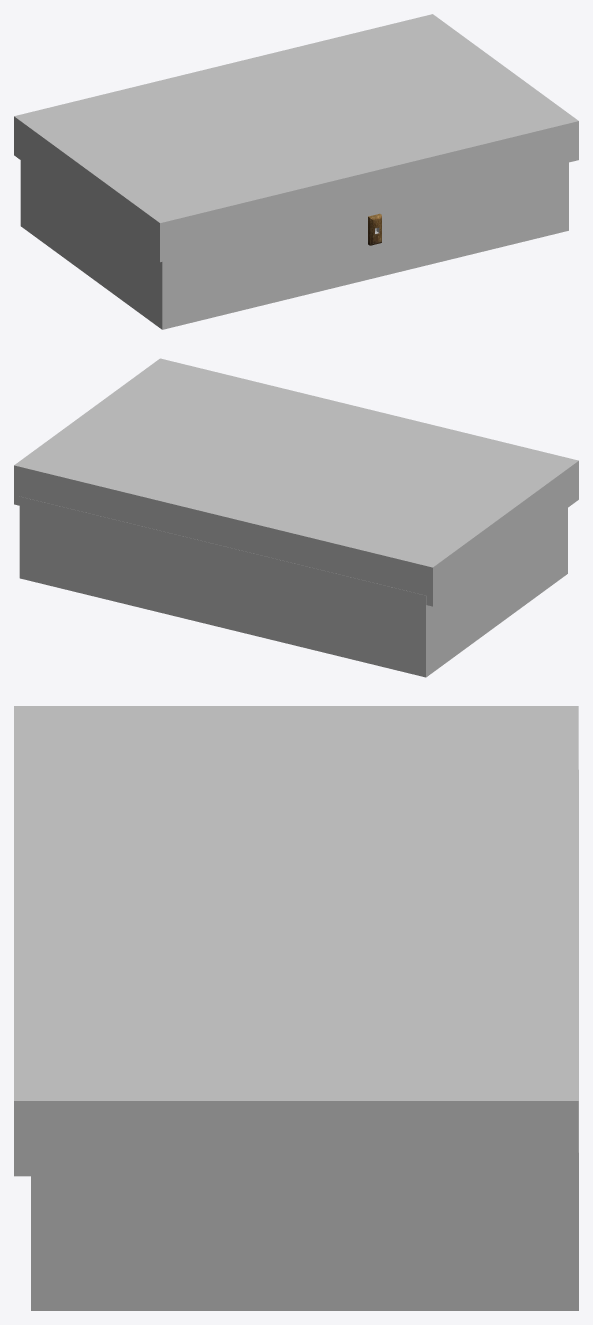
File: wooden_box.fbx
3 renders of one model, top to bottom at view 1: azimuth 30°, elevation 25°; view 2: azimuth 150°, elevation 25°; view 3: azimuth 270°, elevation 25°, orthographic. The views are drawn at different scales.
Parts seen in each view (by area): view 1: pCube2, pCube1, pCube3; view 2: pCube2, pCube1; view 3: pCube2, pCube1.
Boxes of the visible parts, x1,y1,x2,y2 form: pCube2: [14, 14, 578, 262]; pCube1: [20, 160, 568, 329]; pCube3: [368, 213, 381, 245]; pCube2: [14, 358, 578, 606]; pCube1: [19, 496, 567, 677]; pCube2: [14, 706, 578, 1176]; pCube1: [31, 770, 578, 1310].
Bounding box in the file's own units: 2.49 × 0.6326 × 1.5.
